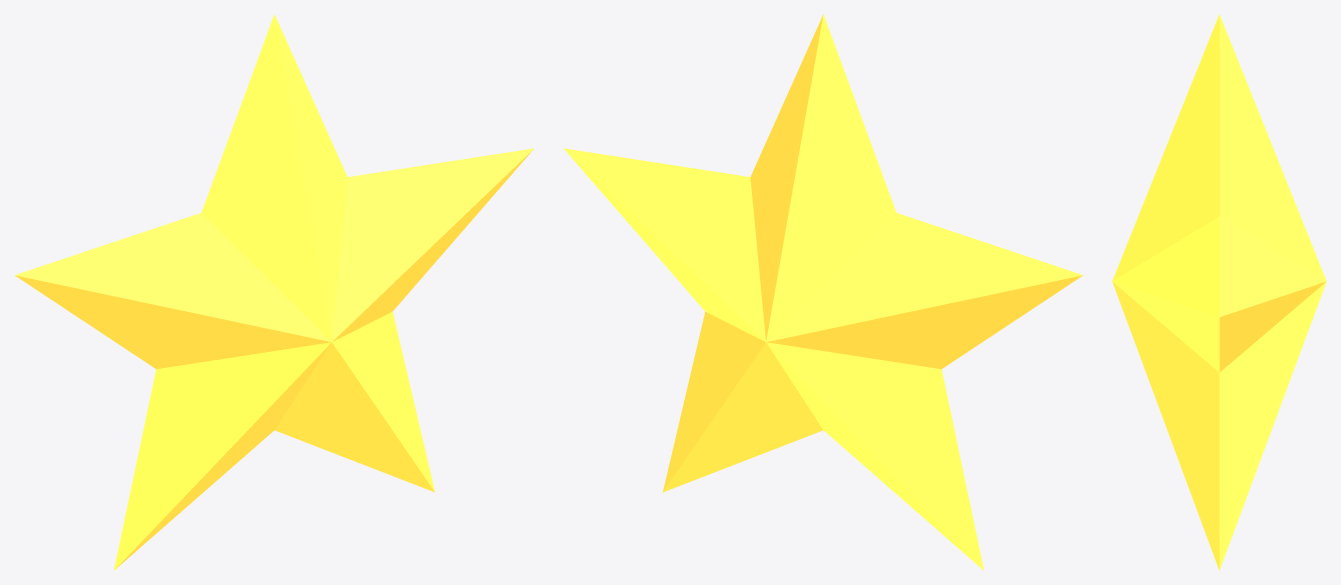
Rendered from star.glb.
3 renders of one model, left to right at view 1: azimuth 30°, elevation 25°; view 2: azimuth 150°, elevation 25°; view 3: azimuth 270°, elevation 25°, orthographic. The views are drawn at different scales.
Visible parts, largest first — view 1: Star; view 2: Star; view 3: Star.
Boxes of the visible parts, <box> form: Star: <box>14,14,533,570</box>; Star: <box>564,14,1083,570</box>; Star: <box>1112,14,1326,570</box>.
Bounding box in the file's own units: 1.05 × 0.995 × 0.4.
